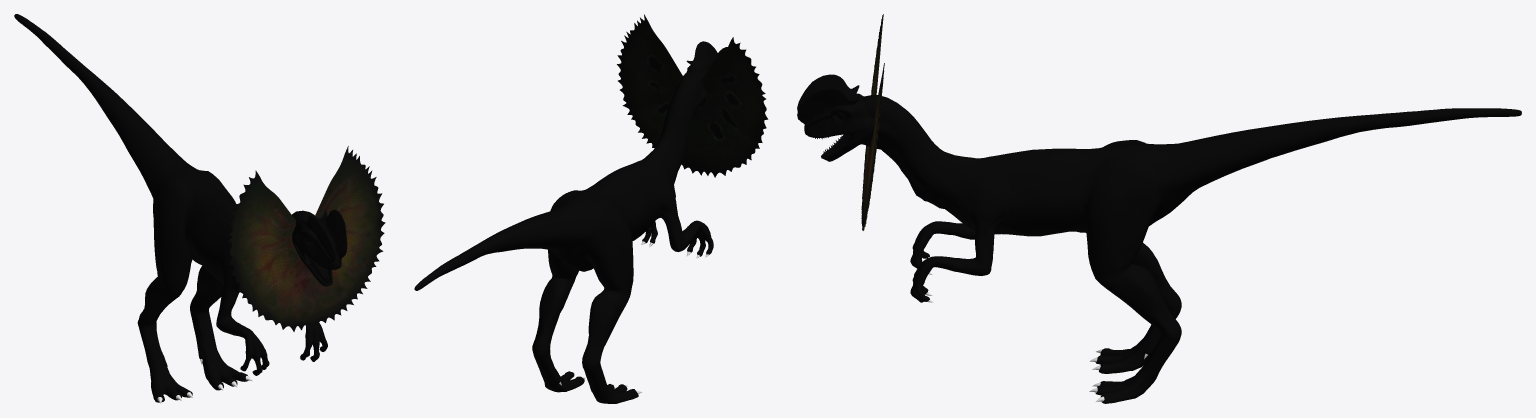
The model's file is Dilapha.fbx.
The picture shows the model from 3 angles, left to right: view 1: azimuth 30°, elevation 25°; view 2: azimuth 150°, elevation 25°; view 3: azimuth 270°, elevation 25°; orthographic projection. The views are drawn at different scales.
Visible parts, largest first — view 1: Main Mesh, Cylinder01; view 2: Main Mesh, Cylinder01; view 3: Main Mesh, Cylinder01.
Part boxes in pixels (<box>): Main Mesh: <box>14,14,347,402</box>; Cylinder01: <box>228,146,385,331</box>; Main Mesh: <box>414,41,727,403</box>; Cylinder01: <box>617,14,768,177</box>; Main Mesh: <box>797,74,1521,403</box>; Cylinder01: <box>861,14,884,230</box>.
Size of the model in its own units: 24.12 by 45.21 by 86.44.
Materials: 6 (1 with a texture image).
